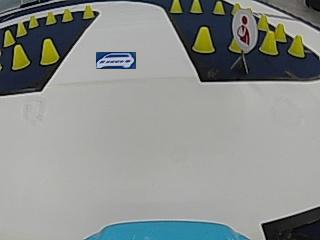cone: (192, 26, 215, 54), (40, 39, 59, 65), (12, 45, 30, 68), (261, 31, 277, 54), (289, 35, 305, 57), (275, 23, 286, 41), (257, 13, 269, 29), (3, 30, 15, 45), (16, 22, 28, 36), (82, 5, 94, 19), (170, 0, 182, 13), (213, 1, 225, 14), (62, 8, 73, 22), (190, 1, 202, 13), (45, 11, 56, 24), (28, 15, 38, 27)
patient: (230, 8, 257, 46)
